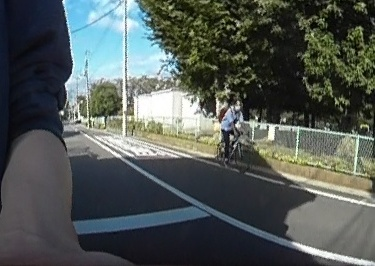person: (221, 100, 242, 154)
